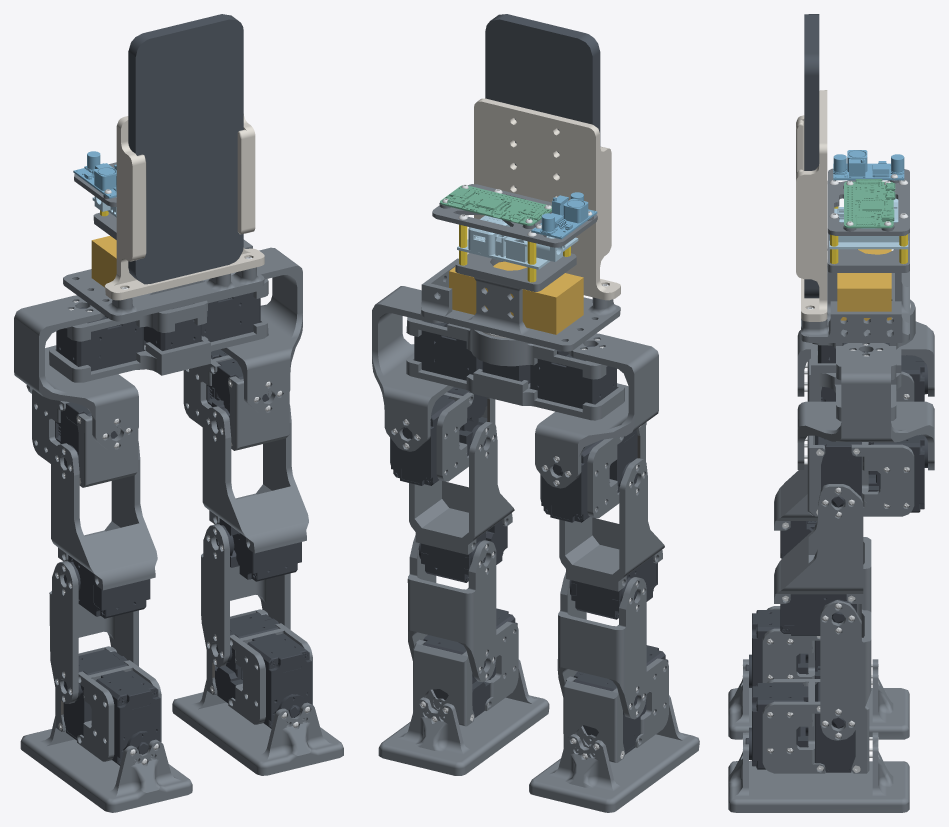
File: PhoneBot-preview.glb
3 renders of one model, left to right at view 1: azimuth 30°, elevation 25°; view 2: azimuth 150°, elevation 25°; view 3: azimuth 270°, elevation 25°, orthographic.
Bounding box in the file's own units: 0.183 × 0.4824 × 0.1251.
